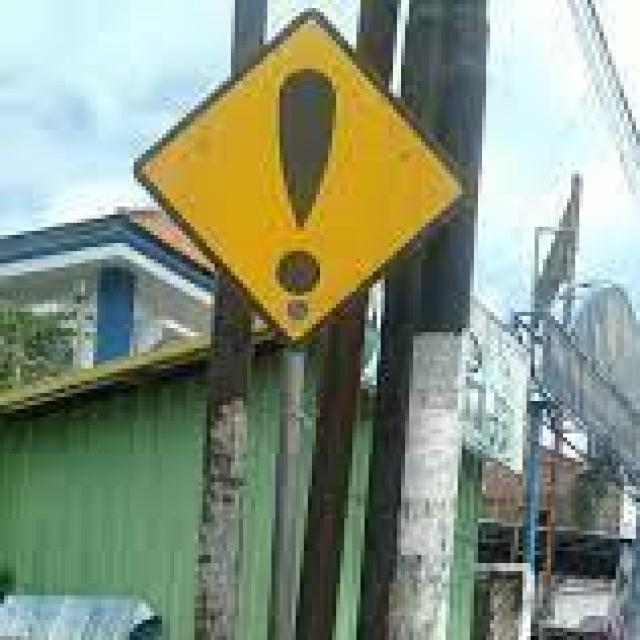traffic sign: (130, 4, 466, 352)
